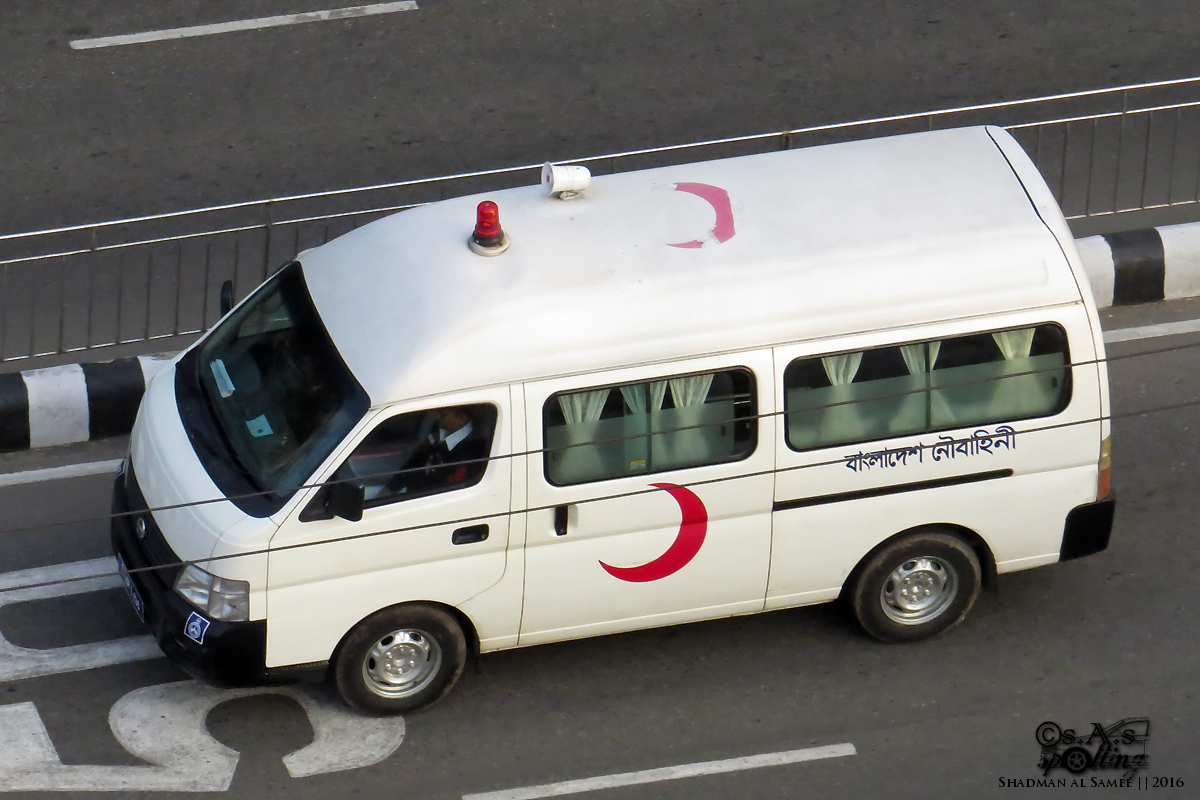Ambulance: (105, 125, 1156, 720)
